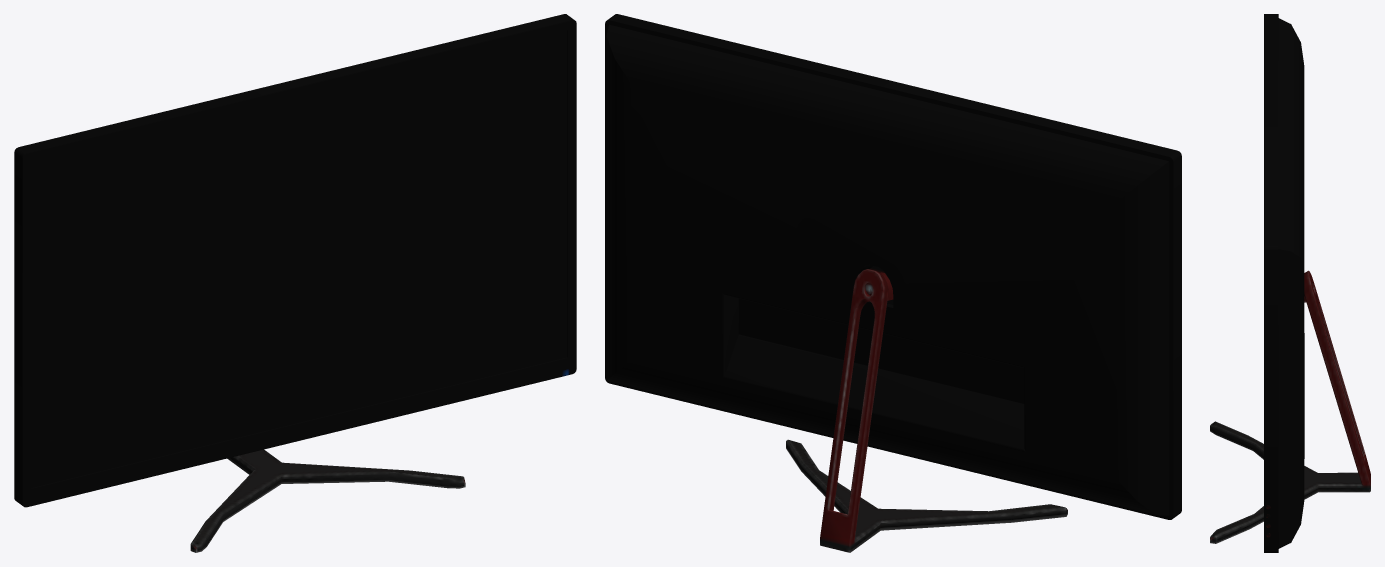
The model's file is SwipeCard.fbx.
3 renders of one model, left to right at view 1: azimuth 30°, elevation 25°; view 2: azimuth 150°, elevation 25°; view 3: azimuth 270°, elevation 25°, orthographic. The views are drawn at different scales.
Parts seen in each view (by area): view 1: SwipeCard; view 2: SwipeCard; view 3: SwipeCard.
Boxes of the visible parts, x1,y1,x2,y2 form: SwipeCard: (14, 14, 576, 552); SwipeCard: (605, 14, 1181, 552); SwipeCard: (1210, 14, 1370, 552).
Size of the model in its own units: 274 by 194 by 79.19.
